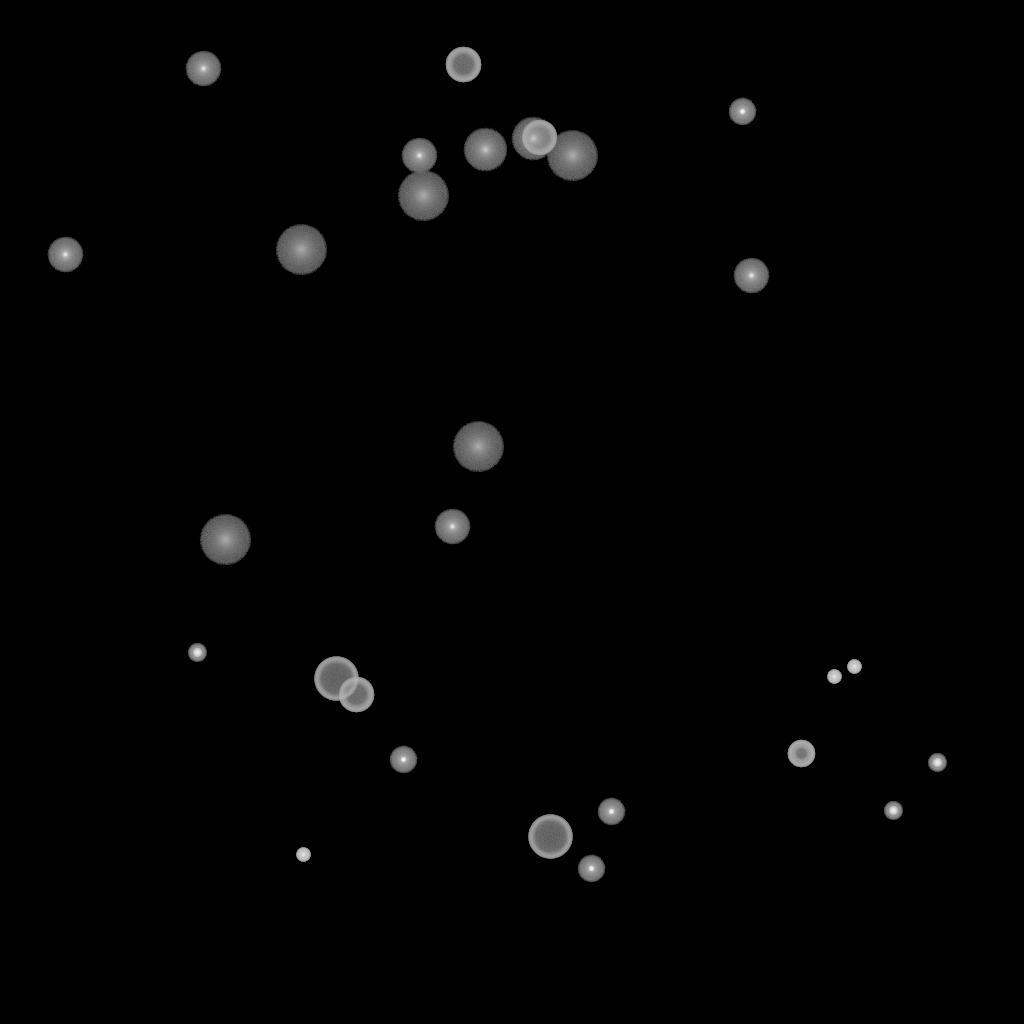depth:-10: (728, 98, 756, 126), (577, 855, 605, 883), (597, 798, 625, 826), (389, 746, 417, 774)
depth:-20: (884, 802, 902, 820), (188, 644, 206, 662), (928, 754, 946, 772)
depth:-30: (827, 670, 841, 684), (296, 848, 310, 862), (847, 660, 861, 674)
depth:-50: (787, 740, 815, 768)
depth:-60: (521, 120, 557, 156), (445, 47, 481, 83), (338, 677, 374, 713)
depth:-70: (314, 657, 358, 701), (528, 815, 572, 859)
depth:0: (733, 258, 769, 294), (401, 138, 437, 174), (47, 237, 83, 273), (185, 51, 221, 87), (434, 509, 470, 545)
depth:10: (511, 117, 555, 161), (463, 128, 507, 172)
depth:20: (199, 515, 251, 565), (452, 422, 504, 472), (397, 171, 449, 221), (275, 225, 327, 275), (546, 131, 598, 181)
